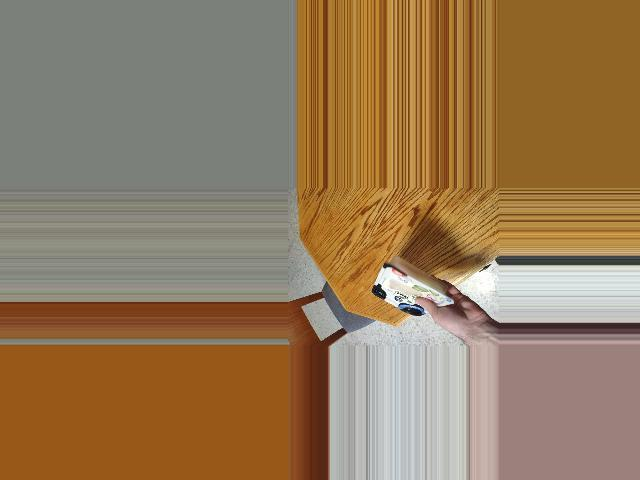cheese: (375, 249, 440, 326)
